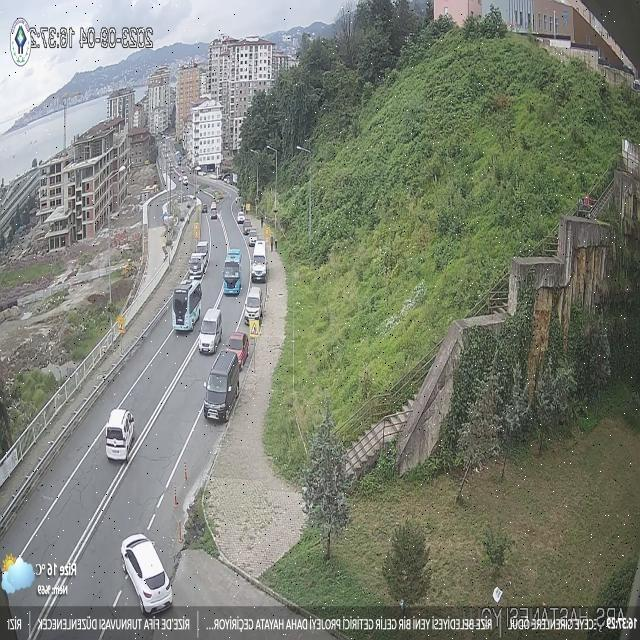Bus: (222, 248, 242, 296)
Car: (120, 534, 174, 612), (105, 409, 140, 463), (198, 307, 222, 354), (227, 331, 250, 365), (245, 286, 264, 324), (248, 232, 260, 246), (241, 221, 255, 233), (236, 210, 246, 225)
Truck: (172, 280, 202, 334), (187, 242, 210, 278), (252, 240, 266, 284)
Van: (205, 351, 238, 422)
